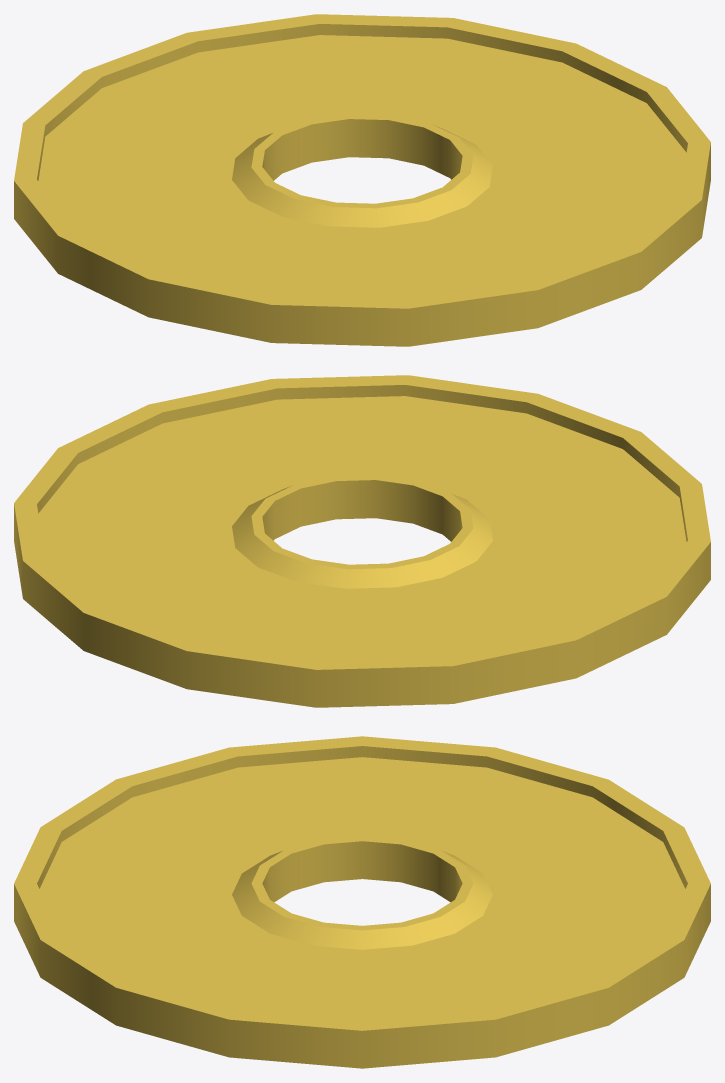
The model's file is coinv0.2.glb.
3 renders of one model, top to bottom at view 1: azimuth 30°, elevation 25°; view 2: azimuth 150°, elevation 25°; view 3: azimuth 270°, elevation 25°, orthographic.
Visible parts, largest first — view 1: Cylinder; view 2: Cylinder; view 3: Cylinder.
Boxes of the visible parts, x1=… form: Cylinder: x1=14, y1=14, x2=710, y2=346; Cylinder: x1=14, y1=375, x2=710, y2=707; Cylinder: x1=14, y1=736, x2=710, y2=1068.
Size of the model in its own units: 2 by 0.12 by 2.
